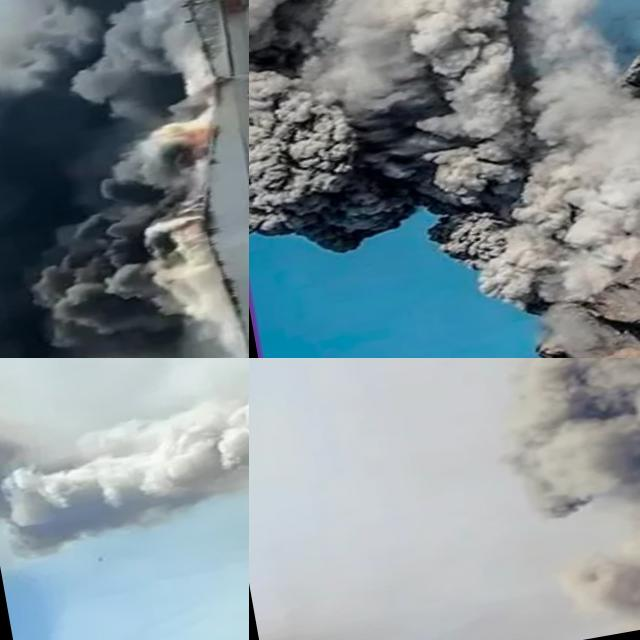smoke: (249, 0, 640, 358), (0, 0, 249, 358), (0, 359, 249, 563), (480, 358, 640, 509), (559, 468, 640, 637)
